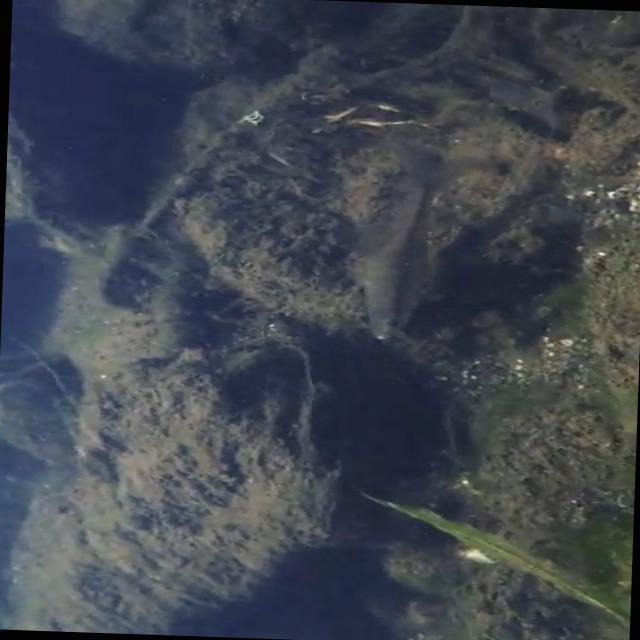Cakil Baligi: (337, 143, 488, 341)
